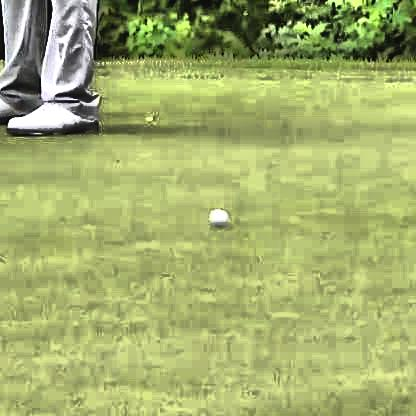golfball: (205, 206, 227, 228)
